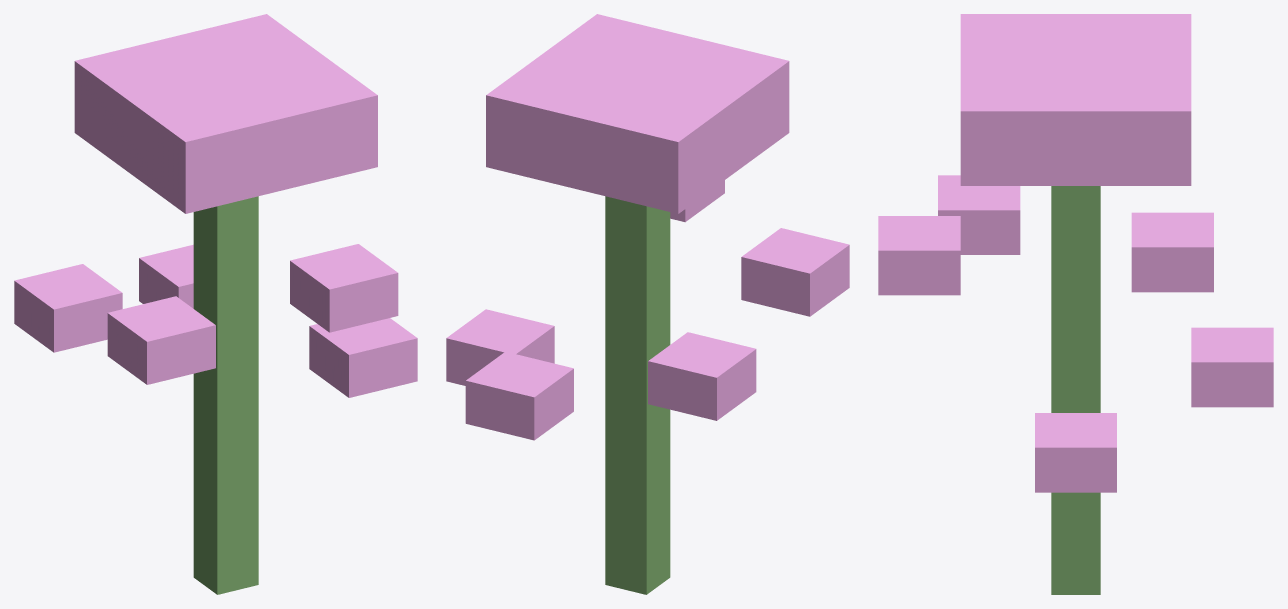
File: Prop_DS_Herb_SwapRoot_S3_V2.glb
3 views of the same model, side by side, from view 1: azimuth 30°, elevation 25°; view 2: azimuth 150°, elevation 25°; view 3: azimuth 270°, elevation 25° (orthographic). The views are drawn at different scales.
Visible parts, largest first — view 1: Cube.006, Cube, Cube.004, Cube.005, Cube.003, Cube.001, Cube.002; view 2: Cube.006, Cube, Cube.002, Cube.003, Cube.004, Cube.001, Cube.005; view 3: Cube.006, Cube, Cube.002, Cube.003, Cube.005, Cube.001, Cube.004.
Part boxes in pixels (<box>): Cube.006: <box>74,14,377,213</box>; Cube: <box>193,196,258,594</box>; Cube.004: <box>107,296,215,384</box>; Cube.005: <box>290,244,398,332</box>; Cube.003: <box>14,264,122,352</box>; Cube.001: <box>309,318,417,397</box>; Cube.002: <box>139,244,193,308</box>; Cube.006: <box>486,14,789,213</box>; Cube: <box>605,196,670,594</box>; Cube.002: <box>465,351,573,440</box>; Cube.003: <box>648,332,756,420</box>; Cube.004: <box>741,228,849,316</box>; Cube.001: <box>446,309,554,385</box>; Cube.005: <box>670,180,724,222</box>; Cube.006: <box>960,14,1191,185</box>; Cube: <box>1051,186,1100,594</box>; Cube.002: <box>1191,327,1273,407</box>; Cube.003: <box>1131,212,1213,292</box>; Cube.005: <box>878,216,960,295</box>; Cube.001: <box>1035,413,1116,492</box>; Cube.004: <box>938,175,1020,254</box>.
Bounding box in the file's own units: 0.4618 × 0.7 × 0.4804.
